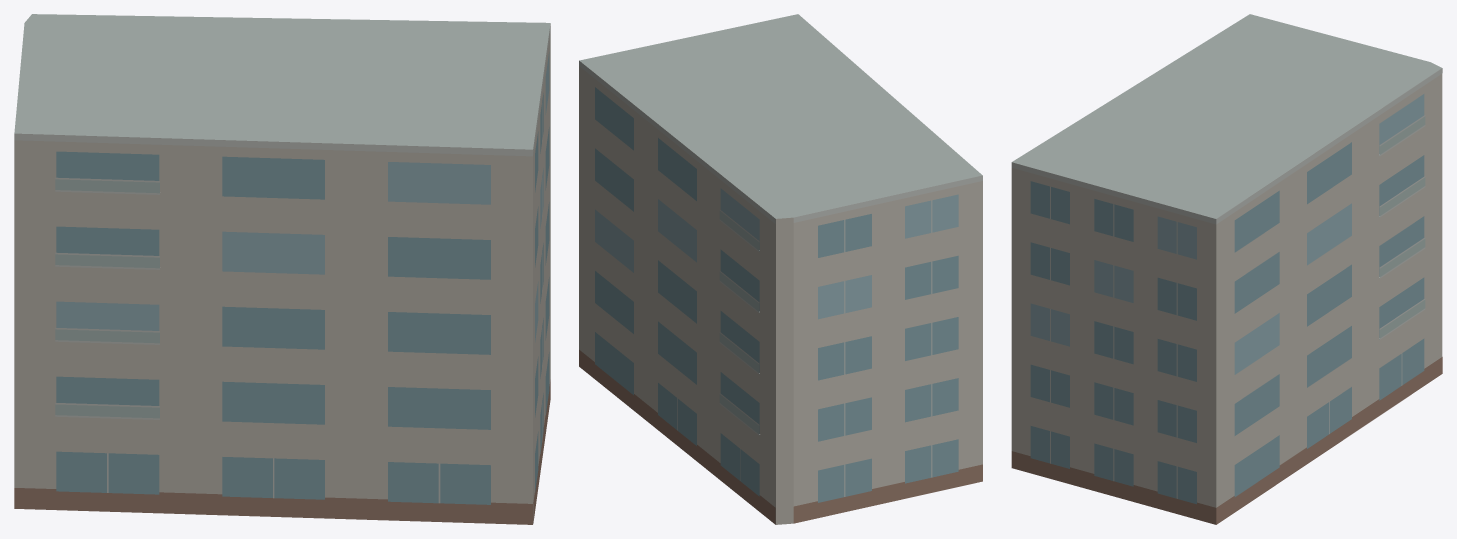
File: survey-upis-32747420.glb
The picture shows the model from 3 angles, left to right: view 1: azimuth 30°, elevation 25°; view 2: azimuth 150°, elevation 25°; view 3: azimuth 270°, elevation 25°; orthographic projection. The views are drawn at different scales.
Parts seen in each view (by area): view 1: survey-upis-32747420.tmp; view 2: survey-upis-32747420.tmp; view 3: survey-upis-32747420.tmp.
Boxes of the visible parts, x1,y1,x2,y2 form: survey-upis-32747420.tmp: (14,14,550,524); survey-upis-32747420.tmp: (579,14,982,524); survey-upis-32747420.tmp: (1011,14,1442,524).
Size of the model in its own units: 19.71 by 13.7 by 17.5.
